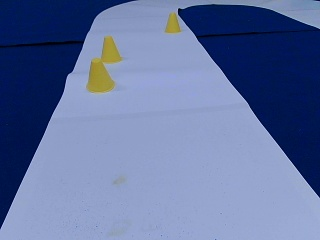cone: (85, 58, 114, 92), (100, 36, 121, 62), (165, 13, 180, 33)
